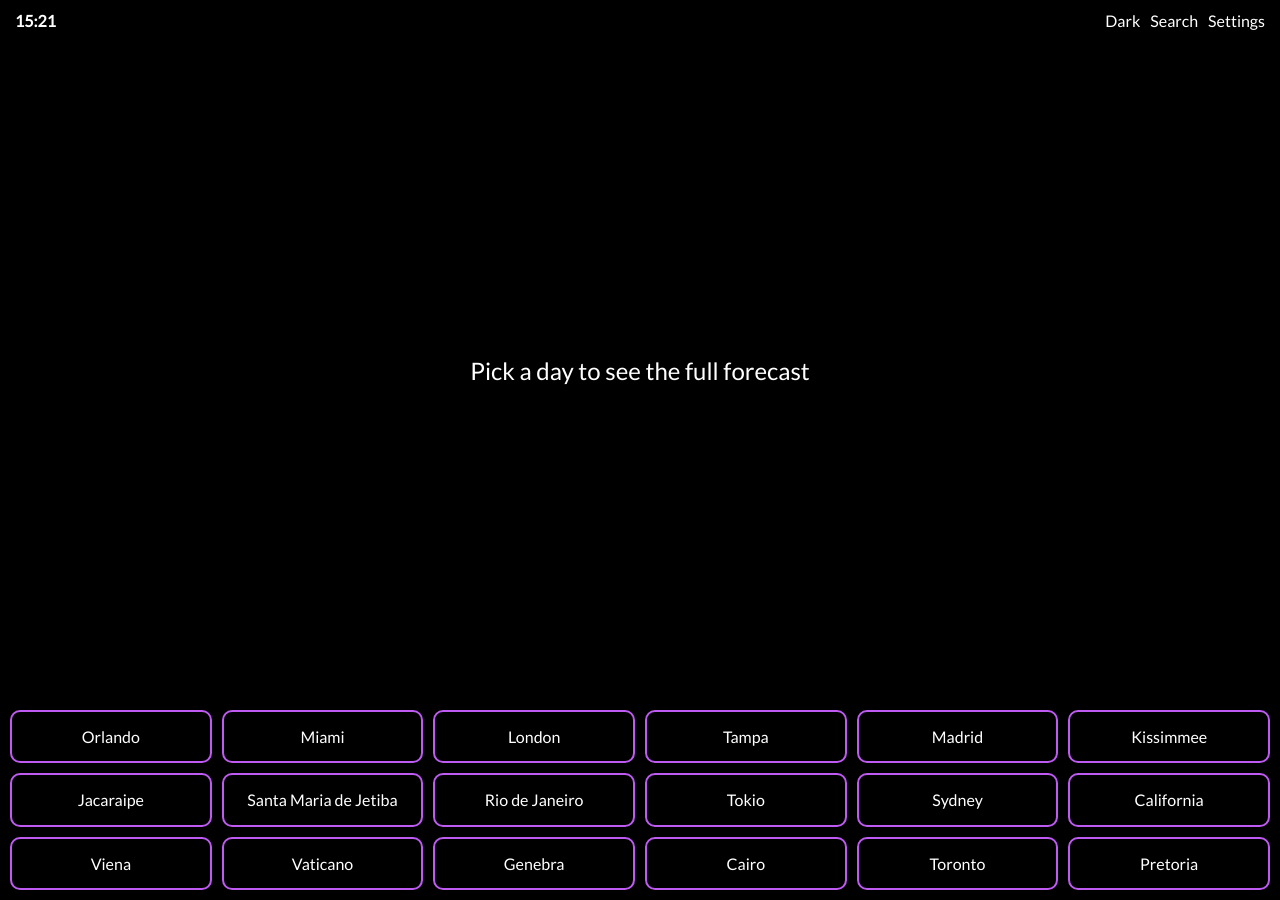
weather info one day
The width and height of the screenshot is (1280, 900).
Click the option "Jacaraipe": (111, 800) [10, 773, 212, 827]
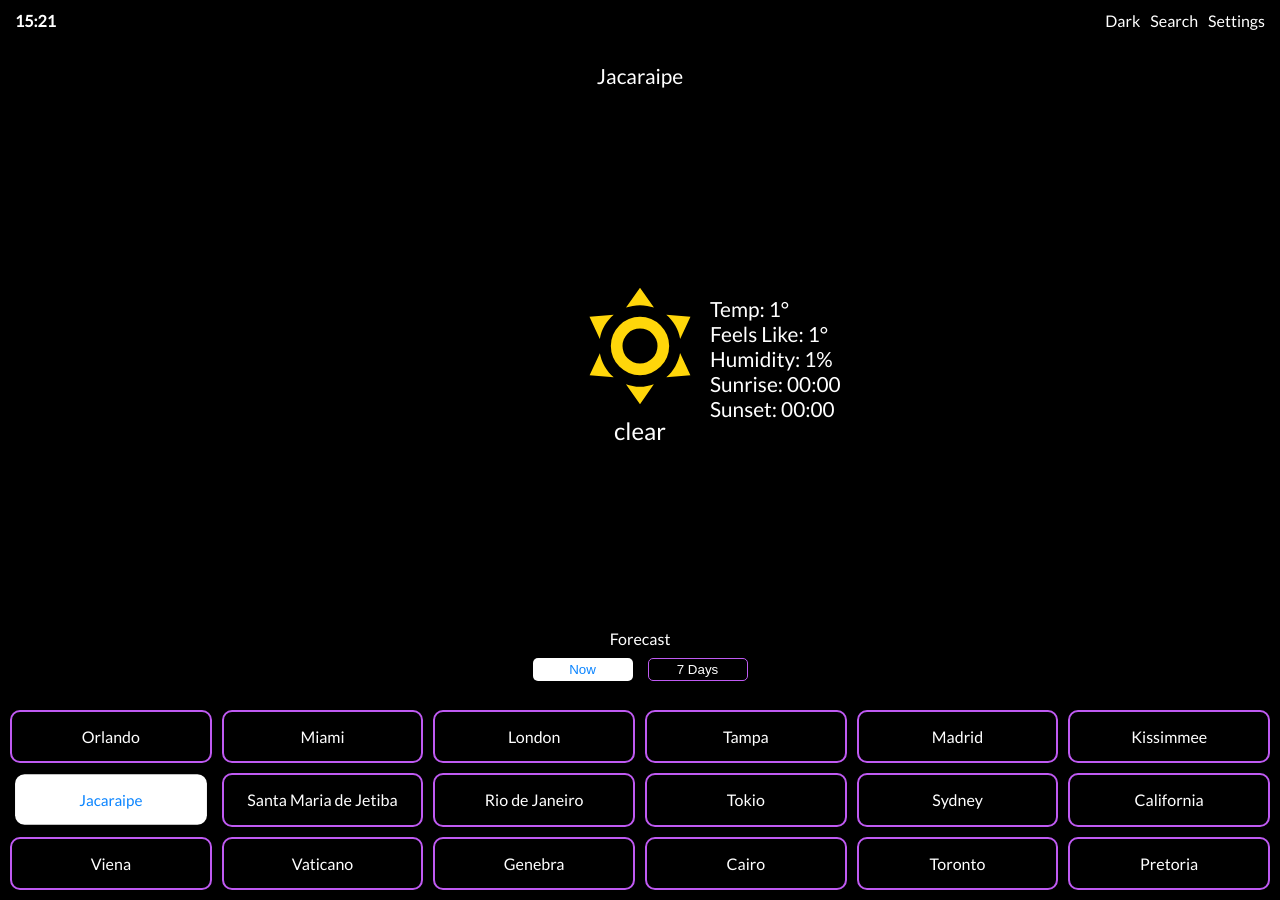
Check: the text "Jacaraipe" is shown, box [597, 62, 683, 88]
Check: the text "clear" is shown, box [614, 416, 666, 444]
